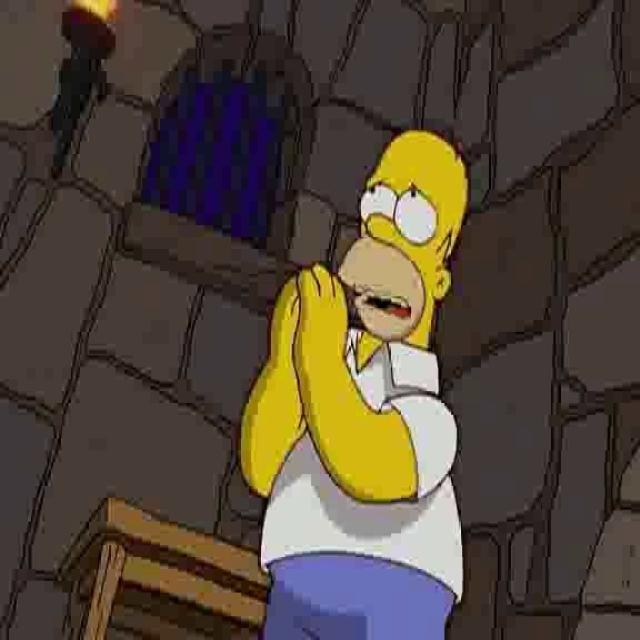Homer Simpson: (336, 126, 471, 351)
